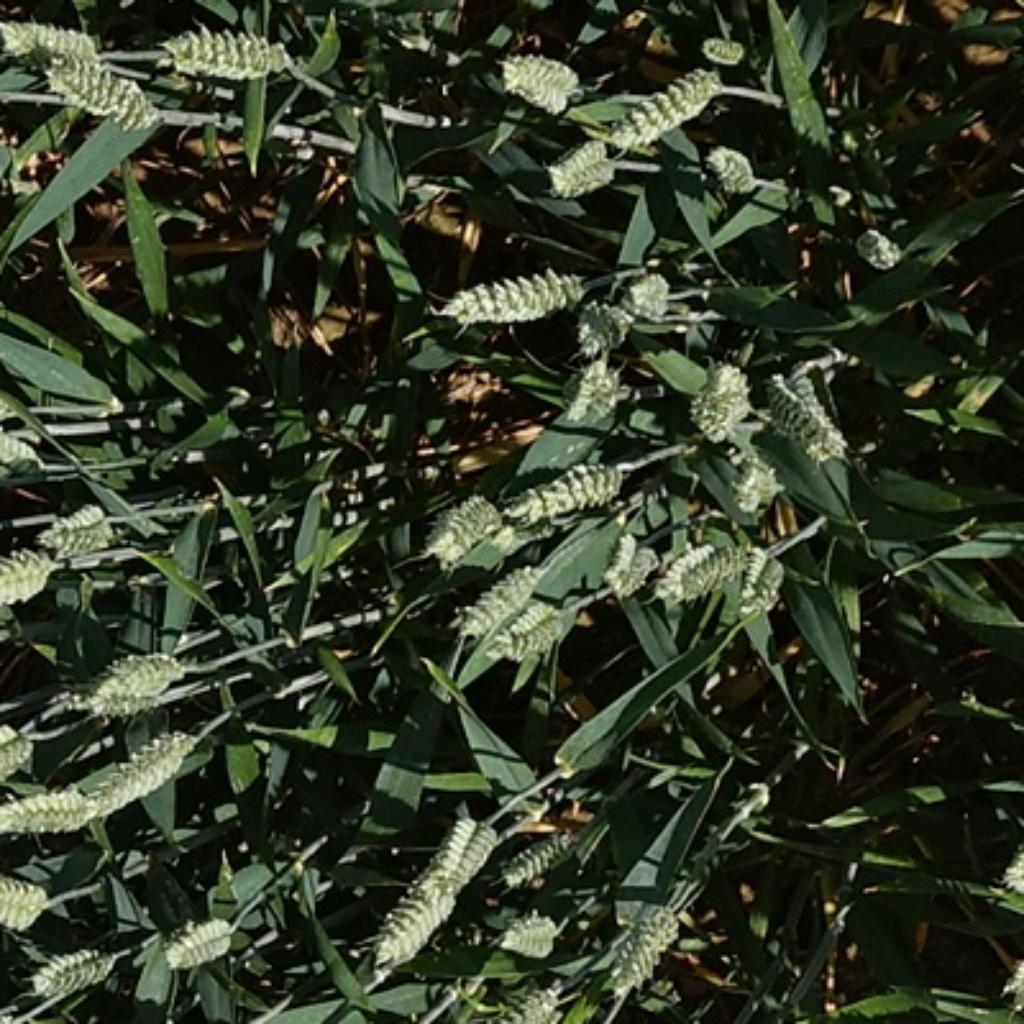0-0: (63, 730, 198, 818), (601, 53, 724, 148), (432, 261, 593, 330), (151, 17, 302, 87), (499, 450, 632, 529), (378, 856, 467, 971), (760, 363, 844, 463), (440, 565, 540, 647), (46, 53, 156, 125), (424, 806, 496, 913), (419, 483, 509, 568), (481, 593, 570, 673), (2, 15, 104, 84), (610, 900, 683, 994), (2, 788, 102, 849), (683, 358, 755, 442), (498, 48, 587, 115), (31, 943, 128, 1002), (35, 496, 120, 560), (542, 130, 619, 199), (92, 653, 199, 701), (503, 826, 583, 890), (86, 674, 186, 720), (570, 296, 643, 358), (563, 355, 631, 421), (654, 544, 735, 598), (2, 542, 56, 614), (170, 923, 243, 973), (496, 908, 560, 960), (603, 535, 652, 597), (701, 138, 757, 192), (729, 448, 778, 509), (737, 547, 782, 612), (847, 221, 906, 269), (620, 273, 674, 322), (693, 38, 759, 68)
